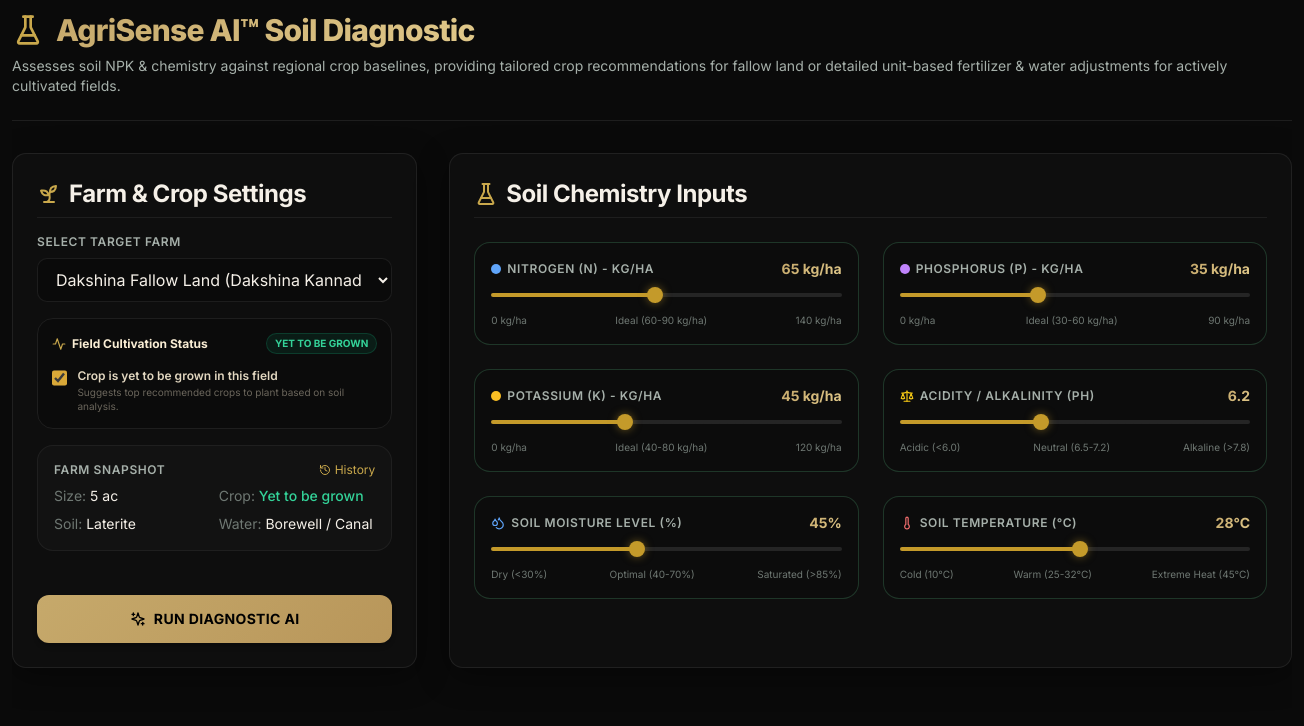
Test: SoilAnalysisContent - Integration and Regression Tests › correctly runs diagnostics for fallow farm (crop yet to be grown) and renders recommended crop guides
The width and height of the screenshot is (1304, 726).
Expected: the text "Crop is yet to be grown in this field" is shown, [78, 368, 278, 383]
Note: Run Diagnostic AI
Click the button "RUN DIAGNOSTIC AI". click: (215, 619)
box: [37, 595, 392, 643]
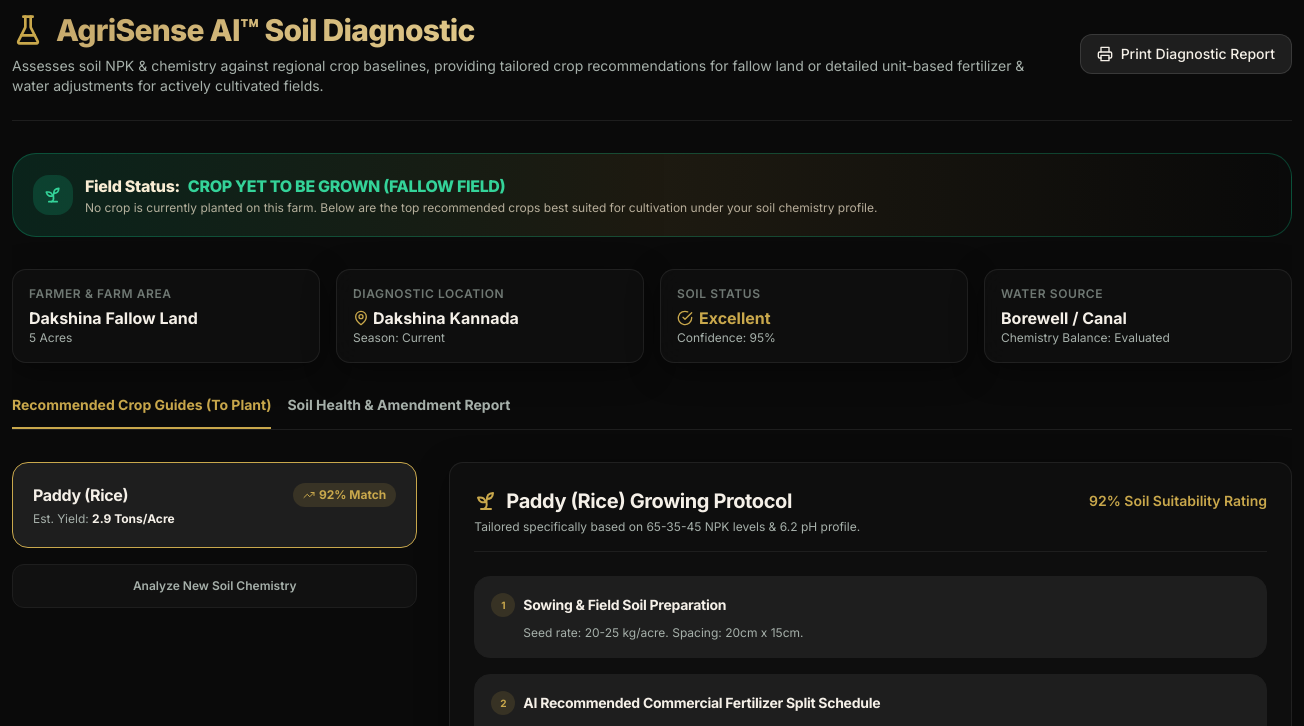
Expected: the text "Crop Yet to be Grown (Fallow Field)" is shown, [188, 174, 505, 198]
Expected: the button "Recommended Crop Guides (To Plant)" is shown, [12, 395, 271, 429]
Expected: the heading "Paddy (Rice)" is shown, [33, 485, 128, 505]
